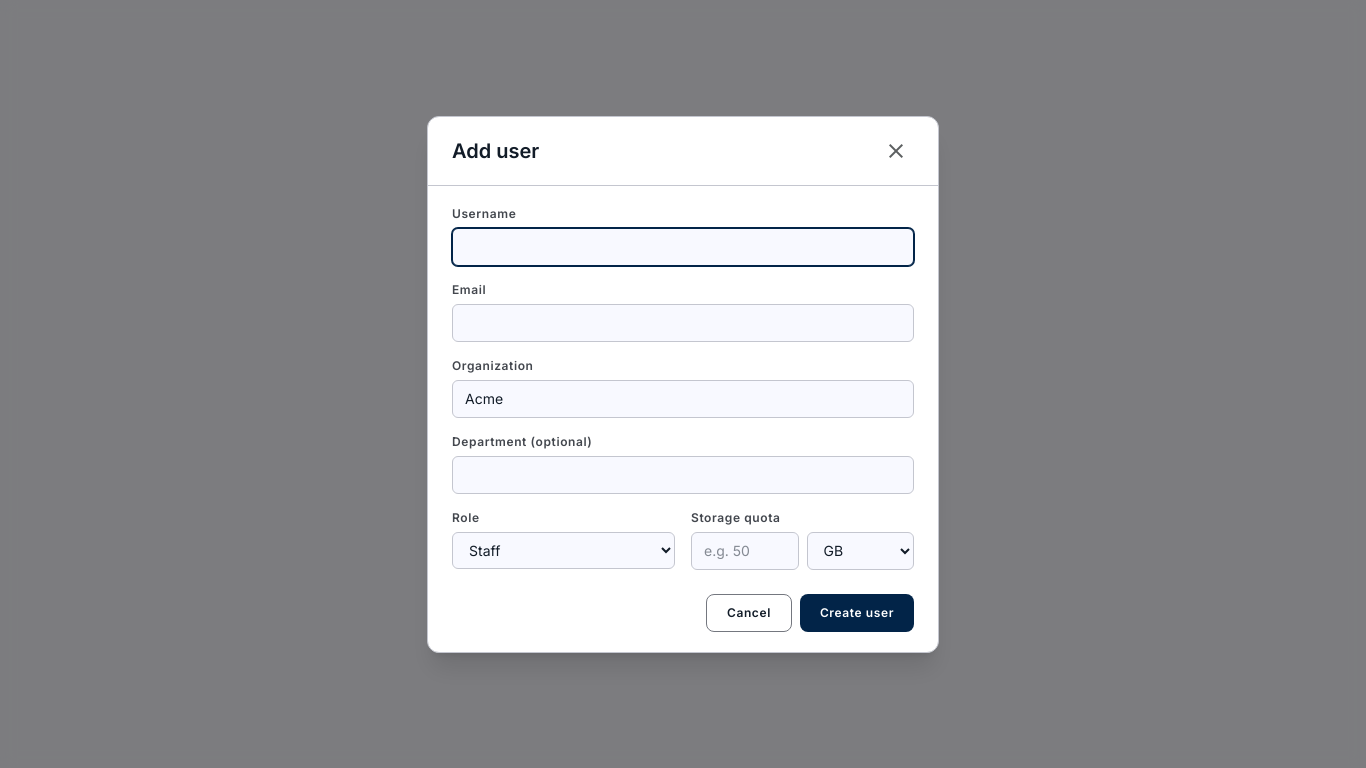
Test: UserFormModal — create mode › blocks submission and flags every empty/unset field
Click the button "Create user".
click(857, 612)  # box [800,594,914,632]
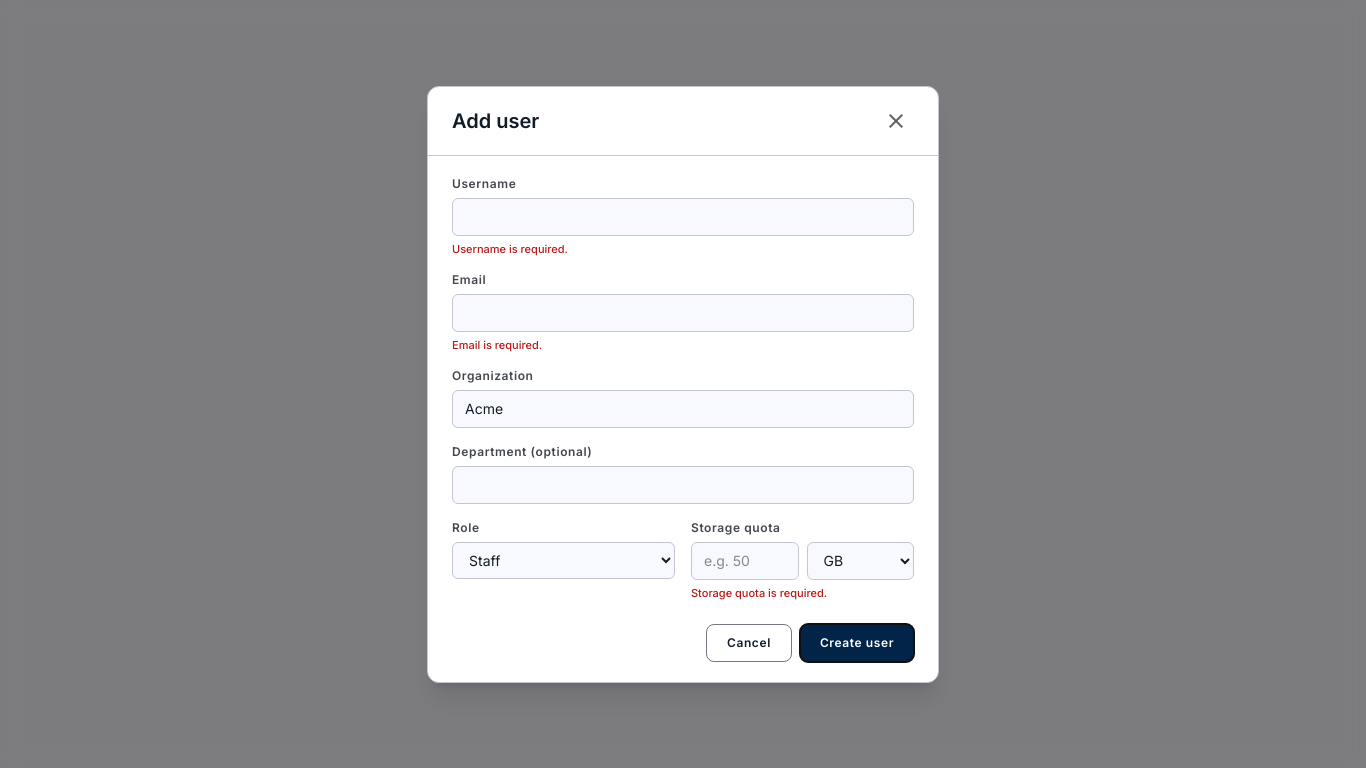
Now the text "Username is required." is shown, box [452,242,568,256]
Now the text "Email is required." is shown, box [452,338,542,352]
Now the text "Storage quota is required." is shown, box [691,586,827,600]
